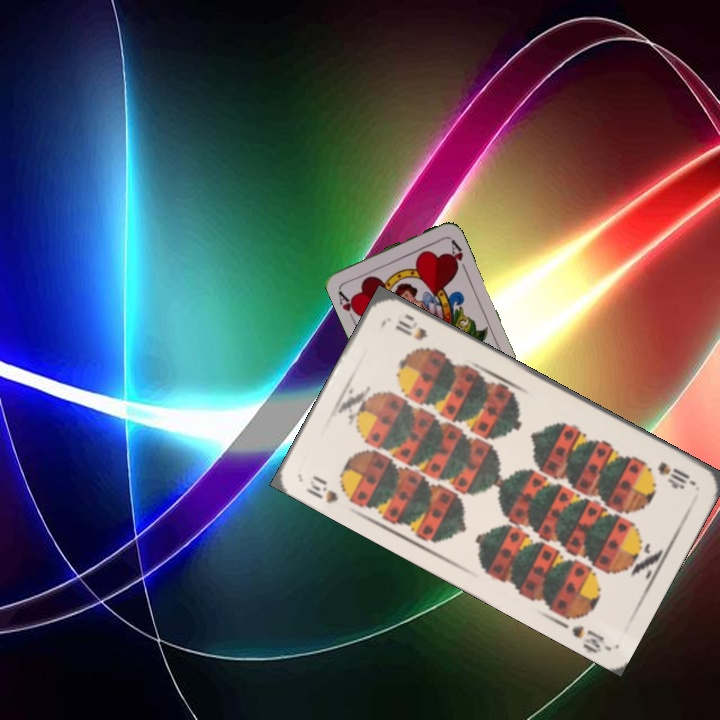HA: (334, 284, 363, 323)
S10: (653, 458, 697, 490), (302, 471, 341, 506)
